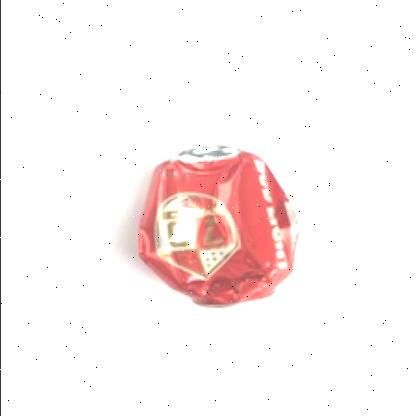Can: (138, 145, 298, 308)
